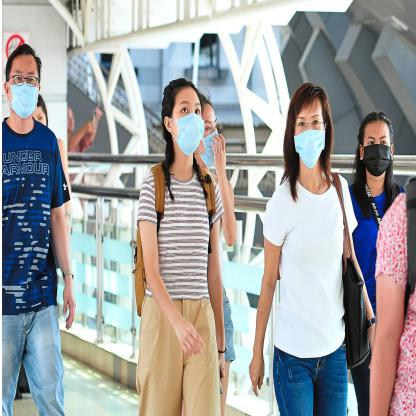Wearing_Mask: (287, 89, 334, 171), (165, 87, 204, 162), (6, 53, 43, 122), (357, 117, 397, 179), (199, 100, 225, 174)
